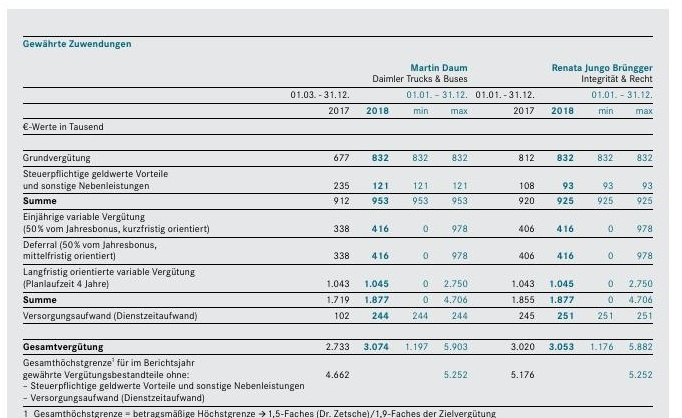table: (0, 0, 682, 418)
